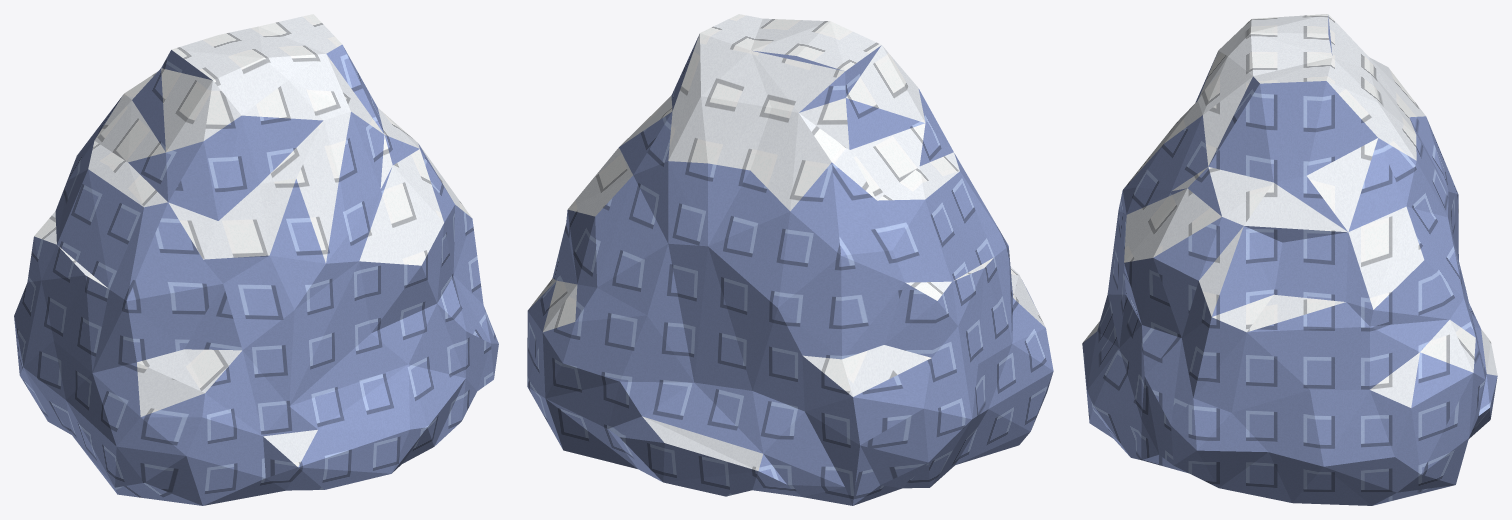
Rendered from IceRoundBoulder.glb.
3 renders of one model, left to right at view 1: azimuth 30°, elevation 25°; view 2: azimuth 150°, elevation 25°; view 3: azimuth 270°, elevation 25°, orthographic. The views are drawn at different scales.
Parts seen in each view (by area): view 1: IceRoundBoulder_Rock, IceRoundBoulder_Top; view 2: IceRoundBoulder_Rock, IceRoundBoulder_Top; view 3: IceRoundBoulder_Rock, IceRoundBoulder_Top.
Part boxes in pixels (bbox=[...]): IceRoundBoulder_Rock: bbox=[14, 44, 498, 505]; IceRoundBoulder_Top: bbox=[34, 14, 471, 466]; IceRoundBoulder_Rock: bbox=[527, 34, 1053, 505]; IceRoundBoulder_Top: bbox=[528, 14, 1045, 470]; IceRoundBoulder_Rock: bbox=[1082, 15, 1497, 505]; IceRoundBoulder_Top: bbox=[1083, 14, 1497, 407].
Bounding box in the file's own units: 8.34 × 7.53 × 7.22.
2 materials, 2 textured.
